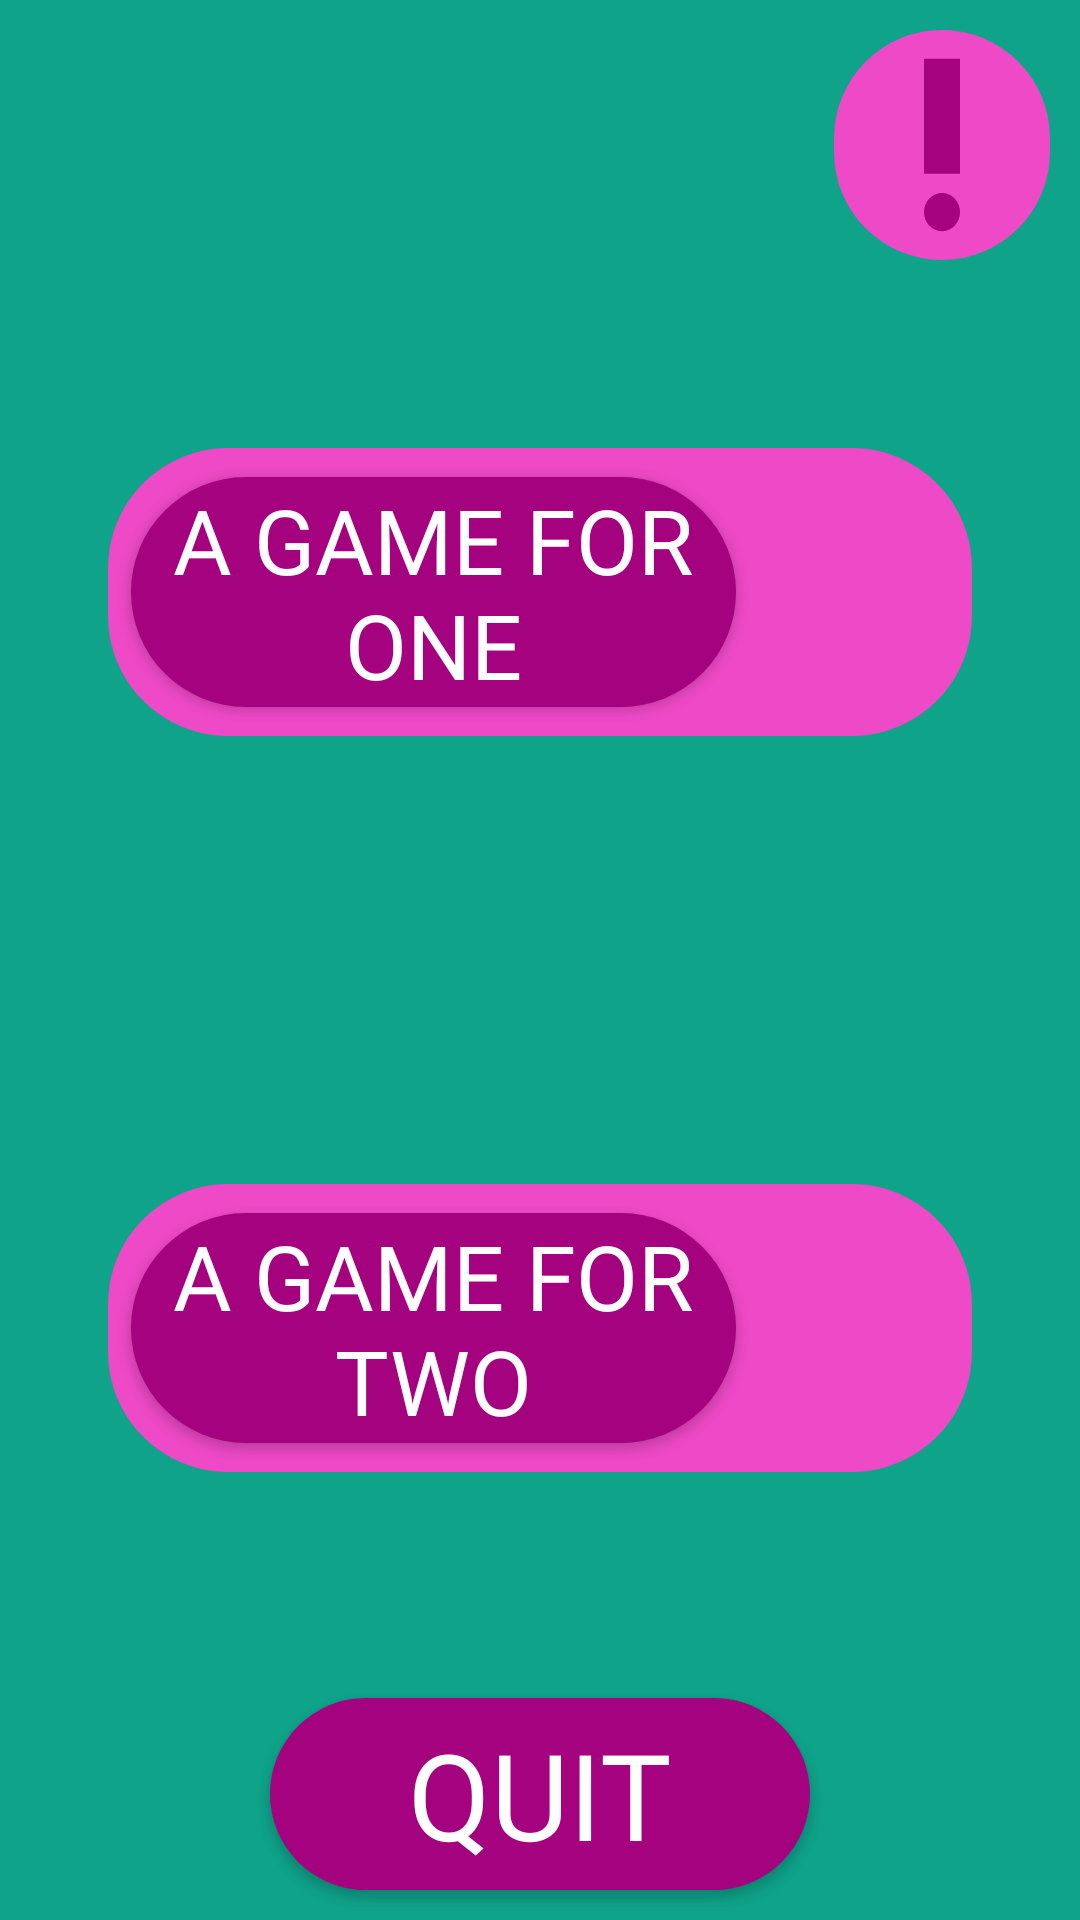

Icons on this 1080×1920 Android screen, each with the point to tap as (x=x, y=y):
priority: (x=942, y=145)
